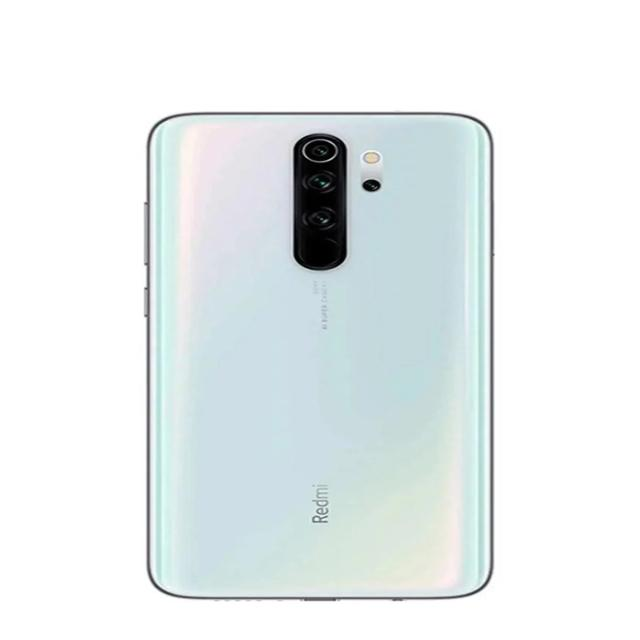Red Mi Note 8 Pro: (141, 108, 497, 604)
